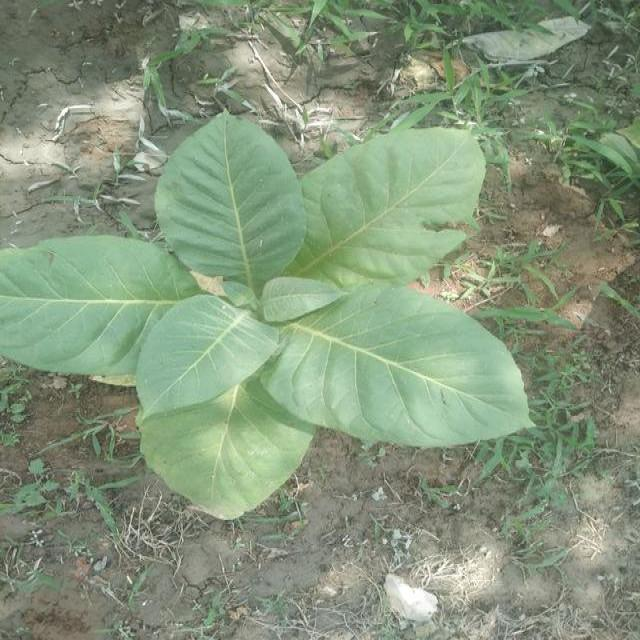crop: (1, 106, 542, 528)
